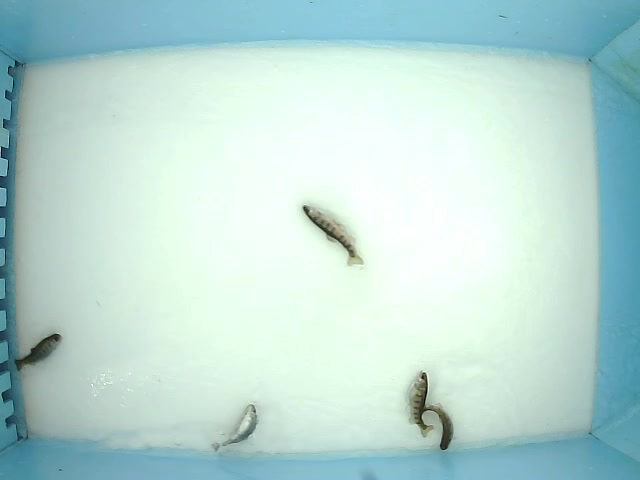fish: (298, 200, 366, 269), (11, 327, 65, 378), (208, 403, 260, 454), (413, 404, 455, 454), (408, 370, 435, 439)
